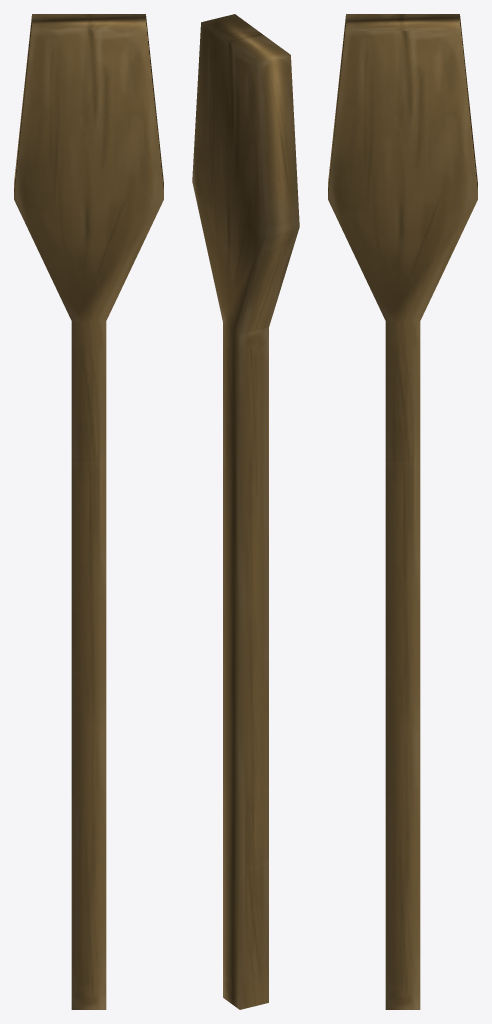
The model's file is M_BoatOar.fbx.
3 views of the same model, side by side, from view 1: azimuth 90°, elevation 25°; view 2: azimuth 210°, elevation 25°; view 3: azimuth 270°, elevation 25° (orthographic).
Parts seen in each view (by area): view 1: M_BoatOar; view 2: M_BoatOar; view 3: M_BoatOar.
Boxes of the visible parts, left/top/right/bottom form: M_BoatOar: left=14, top=14, right=163, bottom=1009; M_BoatOar: left=192, top=14, right=299, bottom=1009; M_BoatOar: left=328, top=14, right=477, bottom=1009.
Bounding box in the file's own units: 0.0795 × 2.15 × 0.2983.
